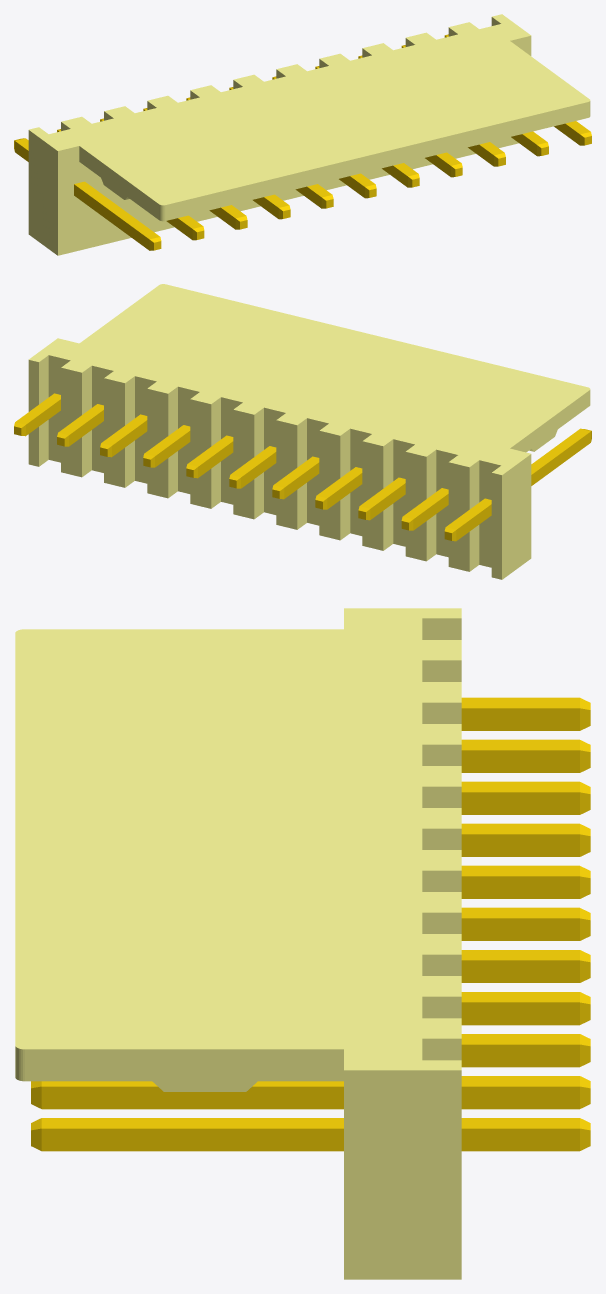
Rendered from DS1070-11 (WF-11 CONNFLY).obj.
3 renders of one model, top to bottom at view 1: azimuth 30°, elevation 25°; view 2: azimuth 150°, elevation 25°; view 3: azimuth 270°, elevation 25°, orthographic. The views are drawn at different scales.
Visible parts, largest first — view 1: DS1070-11_(WF-11_CONNFLY); view 2: DS1070-11_(WF-11_CONNFLY); view 3: DS1070-11_(WF-11_CONNFLY).
Part boxes in pixels (x1,y1,x2,y2): DS1070-11_(WF-11_CONNFLY): (14, 14, 591, 255); DS1070-11_(WF-11_CONNFLY): (14, 284, 591, 579); DS1070-11_(WF-11_CONNFLY): (15, 608, 590, 1279).
Size of the model in its own units: 0.0202 by 0.00427 by 0.0106.
